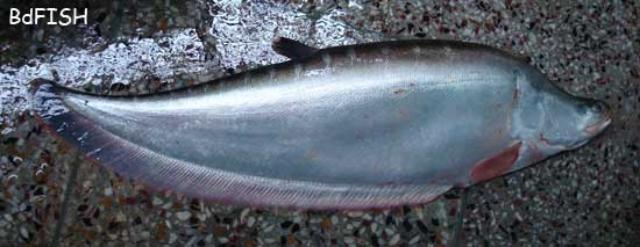Mulut: (575, 96, 619, 144)
Sirip Dada: (466, 135, 528, 185)
Sirip Punggung: (267, 30, 331, 66)
